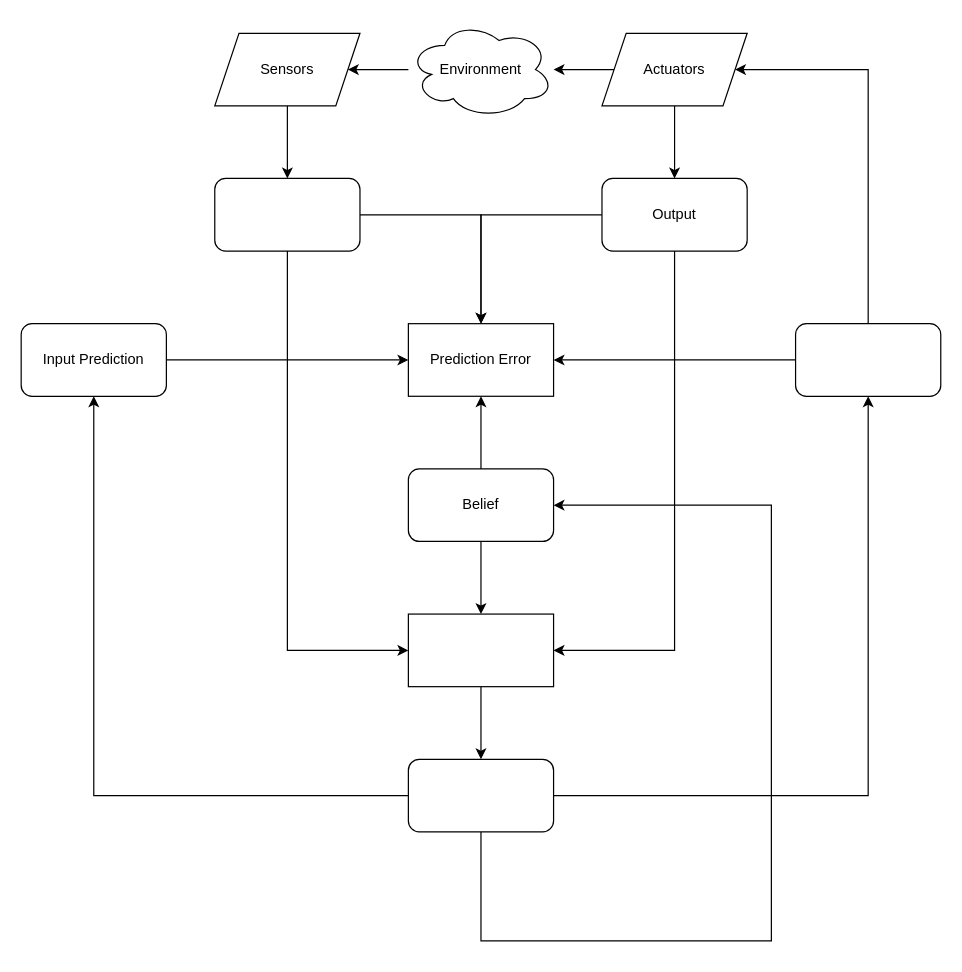
This 962x972 diagram has some shape labels left out. The box of each missing label's shape, as (x1, y1, x2, y2) in pixels:
Input: (214, 177, 360, 251)
Output Prediction: (794, 322, 941, 396)
Prediction: (407, 758, 554, 832)
Prediction Model: (407, 613, 554, 687)
